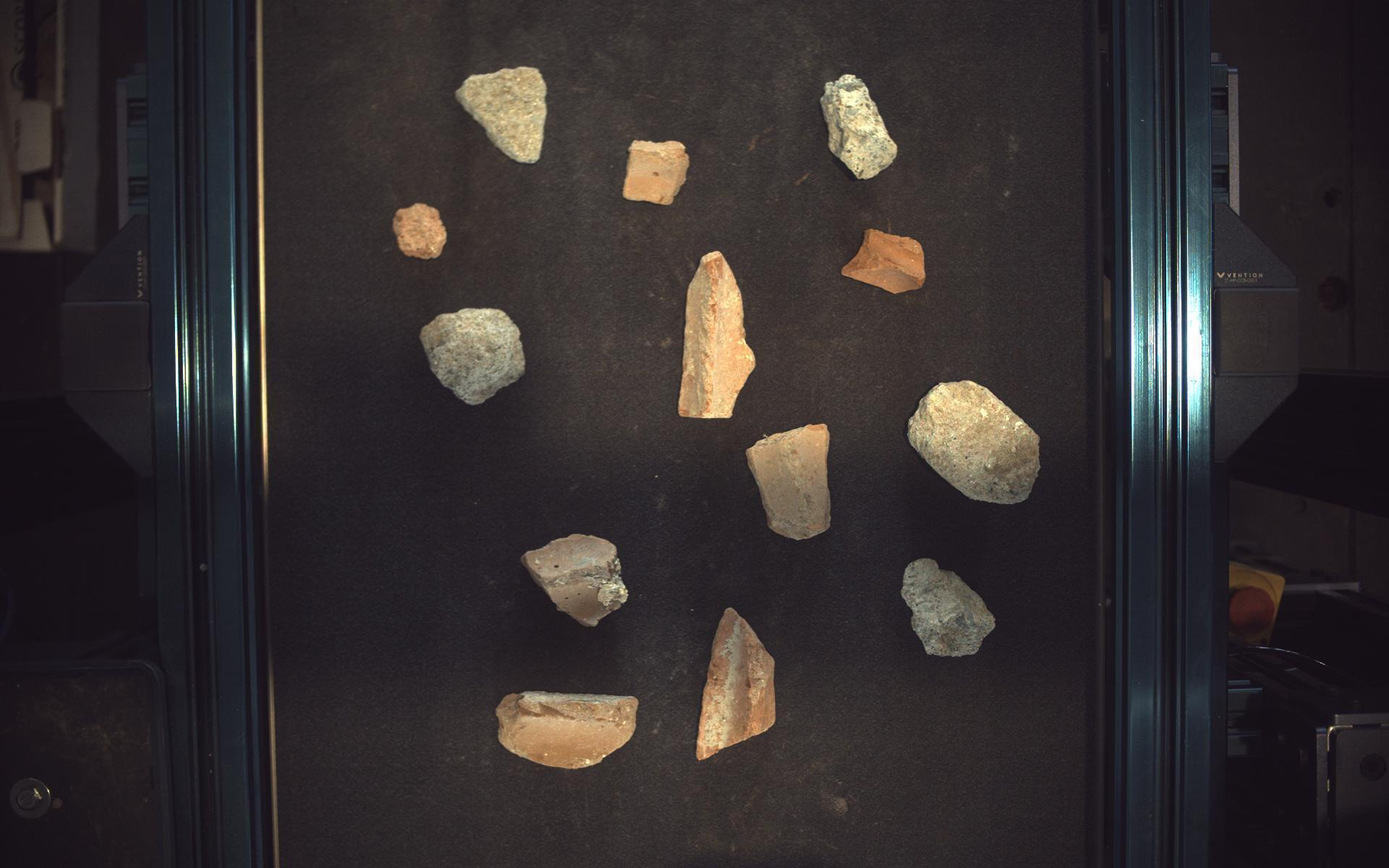brick: (679, 251, 757, 419), (697, 608, 777, 762), (496, 692, 640, 770), (747, 424, 832, 540), (522, 535, 629, 627), (844, 228, 927, 293), (624, 140, 691, 204), (392, 203, 446, 258)
concrete: (909, 380, 1042, 505), (420, 307, 525, 405), (904, 559, 997, 658), (455, 65, 547, 162), (822, 73, 899, 179)
